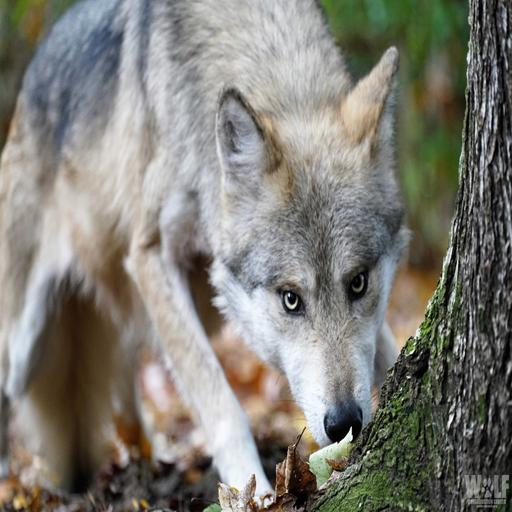Wolf: (0, 0, 418, 510)
